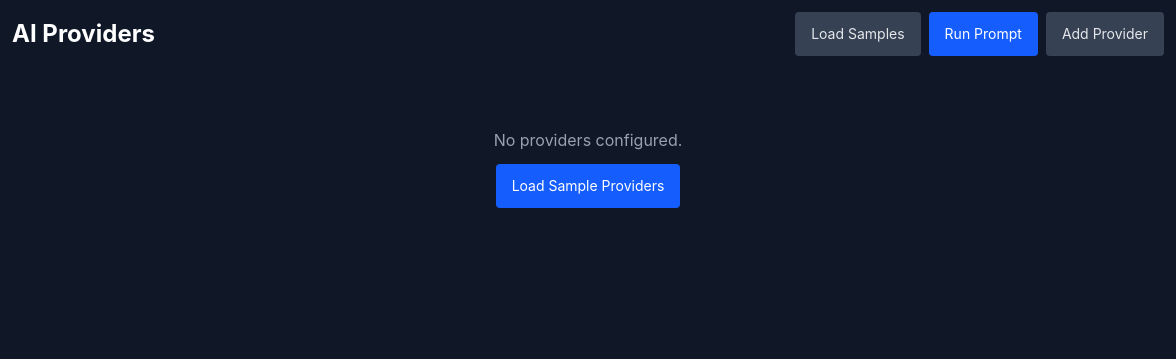
Scenario: AI Providers reports a failed sample read instead of "no samples available"
The width and height of the screenshot is (1176, 359).
Step 1. Click the button "Load Sample Providers" → click(588, 186), box [496, 164, 680, 208]
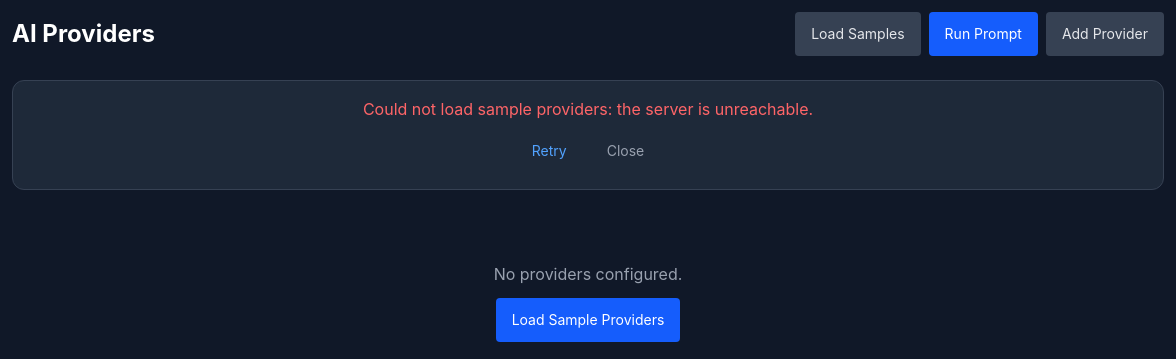
Expected: the message shows "Could not load sample providers: the server is unreachable.", [363, 99, 813, 119]
